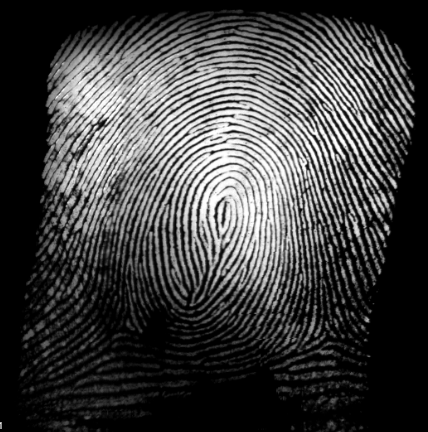deltas: (294, 306, 356, 366), (98, 297, 155, 351)
nucleo: (192, 175, 257, 250)
